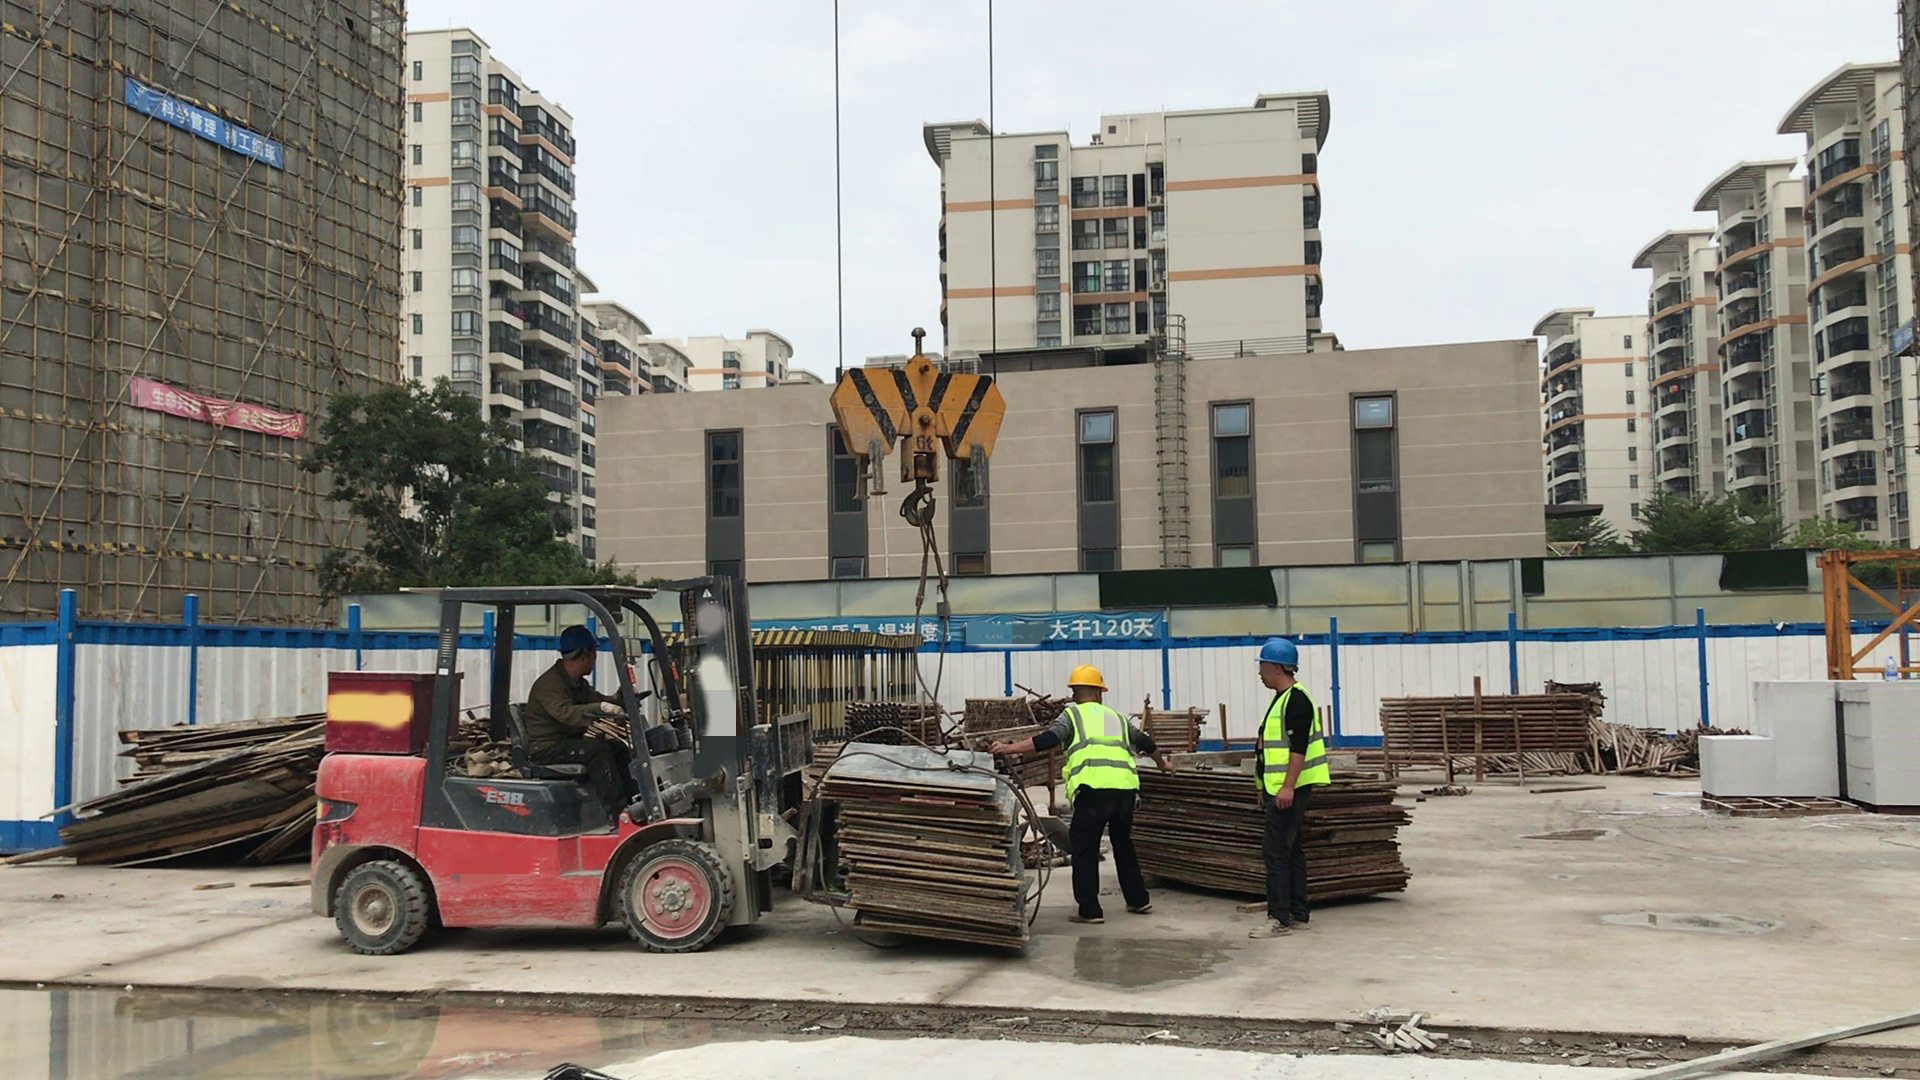board: (818, 737, 1045, 961), (55, 705, 317, 869), (1143, 757, 1260, 923), (1307, 764, 1421, 912)
brick: (1695, 674, 1839, 801), (1842, 680, 1920, 812)
helmet: (1253, 638, 1303, 677), (556, 620, 600, 658), (1064, 665, 1112, 696)
hook: (830, 319, 1015, 528)
person: (992, 663, 1175, 927), (1247, 635, 1331, 941), (524, 620, 624, 832)
scaffold: (1380, 688, 1589, 760), (1146, 701, 1211, 755)
slogan: (122, 72, 285, 171), (133, 375, 308, 443), (955, 616, 1166, 652)
vest: (1253, 685, 1331, 796), (1060, 702, 1141, 804)
